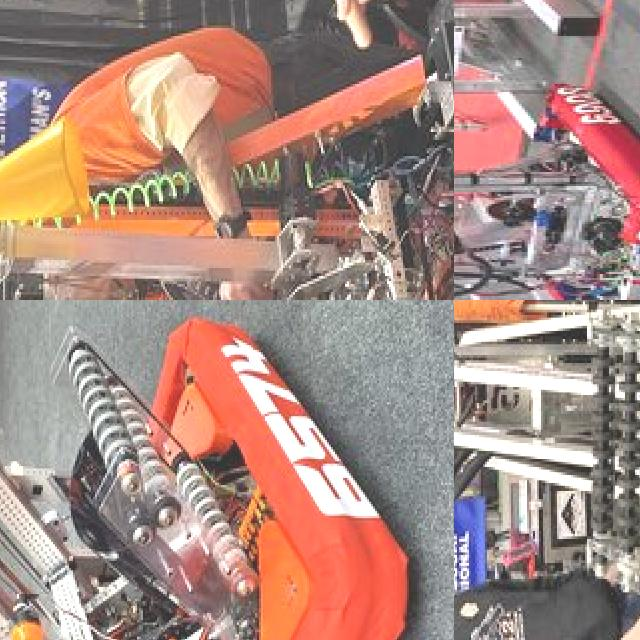FRC-Robots: (0, 304, 420, 640), (0, 9, 454, 300), (454, 300, 640, 640), (454, 61, 640, 300)
